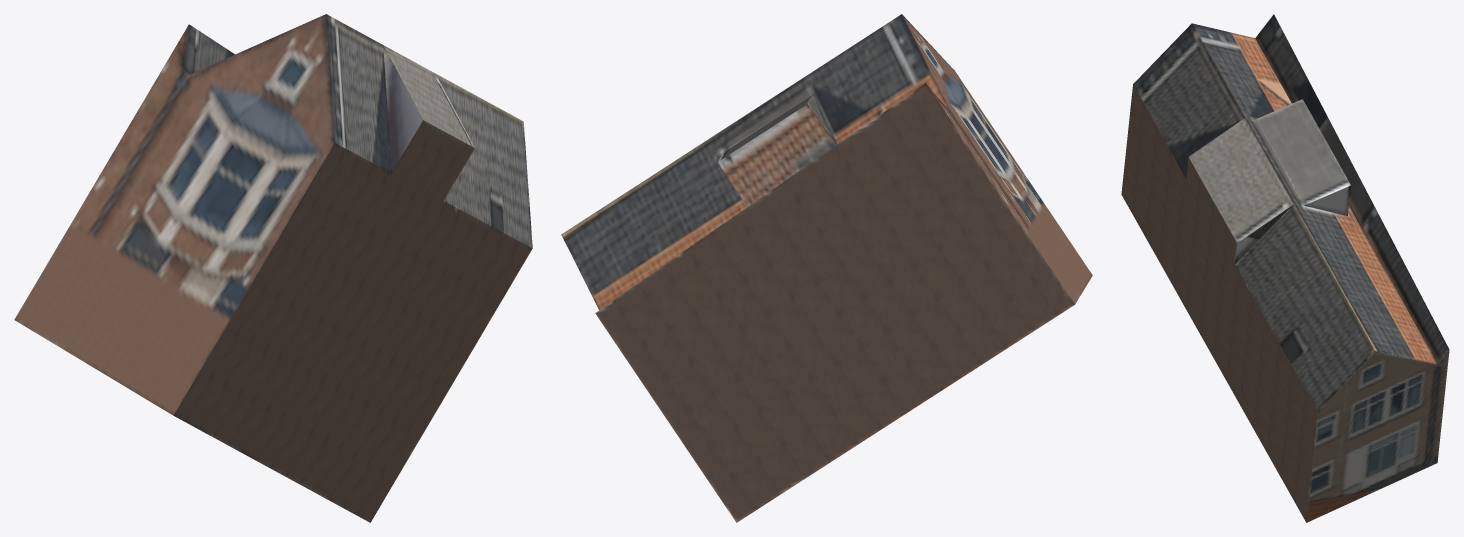
3 renders of one model, left to right at view 1: azimuth 30°, elevation 25°; view 2: azimuth 150°, elevation 25°; view 3: azimuth 270°, elevation 25°, orthographic. The views are drawn at different scales.
Parts seen in each view (by area): view 1: BAG_0599100000656924 (×3); view 2: BAG_0599100000656924 (×2); view 3: BAG_0599100000656924 (×4).
Boxes of the visible parts, x1=… form: BAG_0599100000656924 (×3): x1=14, y1=14, x2=532, y2=522; BAG_0599100000656924 (×2): x1=561, y1=14, x2=1092, y2=522; BAG_0599100000656924 (×4): x1=1121, y1=14, x2=1449, y2=522.
Size of the model in its own units: 15.82 by 15.34 by 10.02.
Materials: 1 (1 with a texture image).
